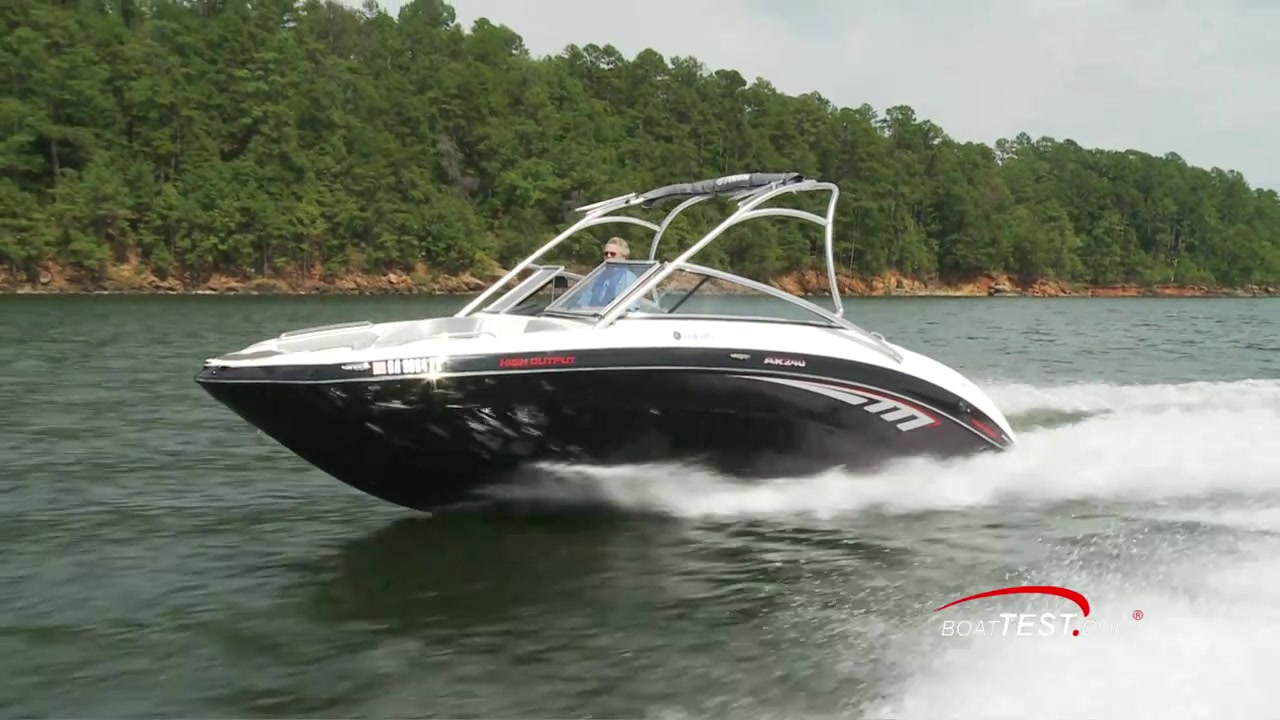boat: (196, 173, 1020, 522)
